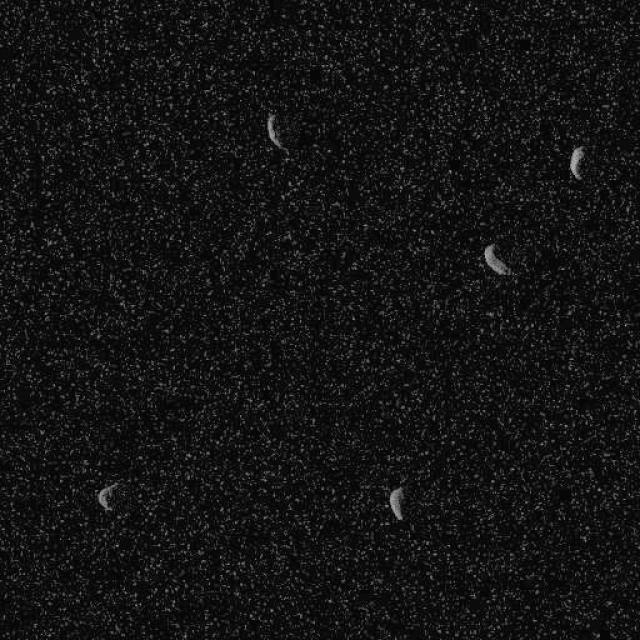D2: (265, 111, 287, 152), (482, 242, 508, 276), (96, 480, 119, 511), (569, 145, 585, 180), (388, 485, 403, 521)
